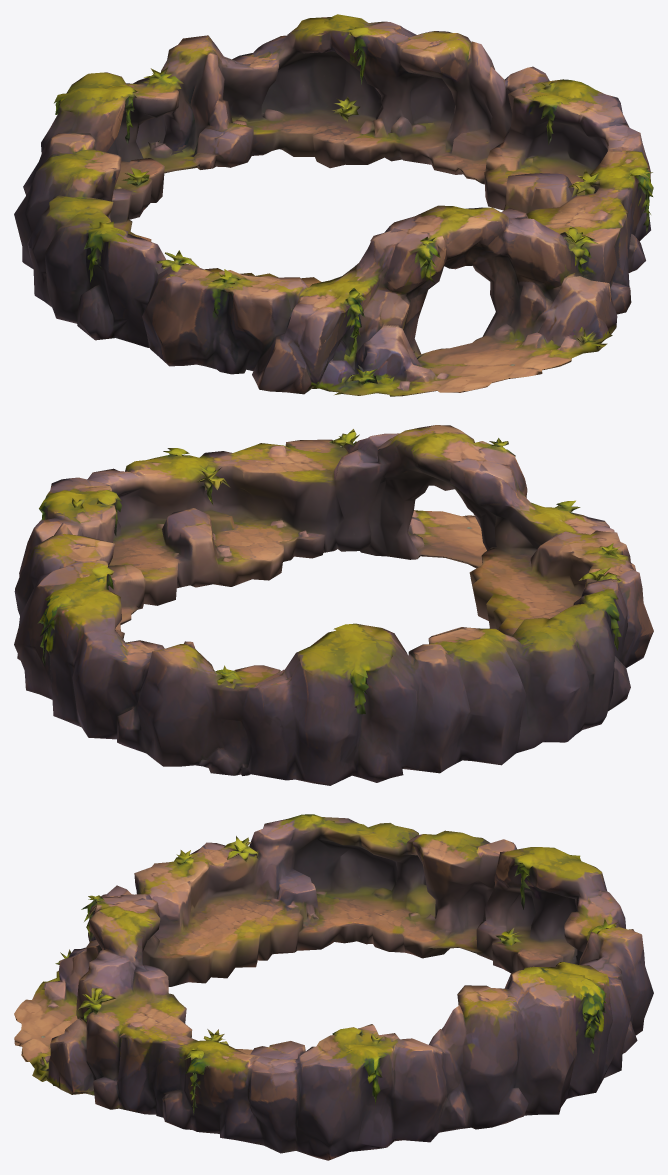
Rendered from stylized rock ring 3d model.glb.
3 renders of one model, top to bottom at view 1: azimuth 30°, elevation 25°; view 2: azimuth 150°, elevation 25°; view 3: azimuth 270°, elevation 25°, orthographic. The views are drawn at different scales.
Parts seen in each view (by area): view 1: tripo_node_689718c0-19a0-4c41-b34e-9823384bce3f; view 2: tripo_node_689718c0-19a0-4c41-b34e-9823384bce3f; view 3: tripo_node_689718c0-19a0-4c41-b34e-9823384bce3f.
Part boxes in pixels (box(x1,y1,x2,y2)): tripo_node_689718c0-19a0-4c41-b34e-9823384bce3f: box(14, 14, 653, 396); tripo_node_689718c0-19a0-4c41-b34e-9823384bce3f: box(14, 425, 653, 785); tripo_node_689718c0-19a0-4c41-b34e-9823384bce3f: box(14, 814, 653, 1160).
Size of the model in its own units: 0.989 by 0.2133 by 1.
Materials: 1 (1 with a texture image).
